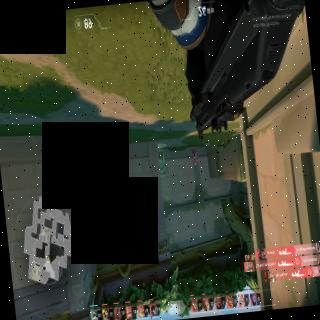ENEMY-BODY: (192, 146, 198, 166)
ENEMY-HEAD: (194, 162, 197, 165)
